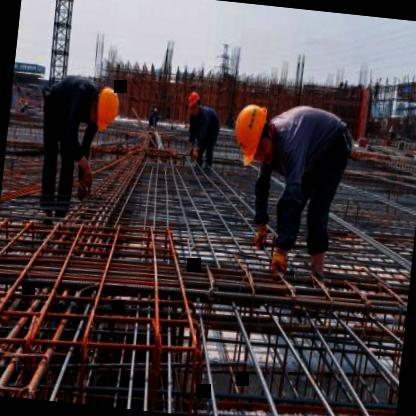helmet: (228, 99, 278, 168), (89, 81, 123, 134), (182, 89, 204, 121)
